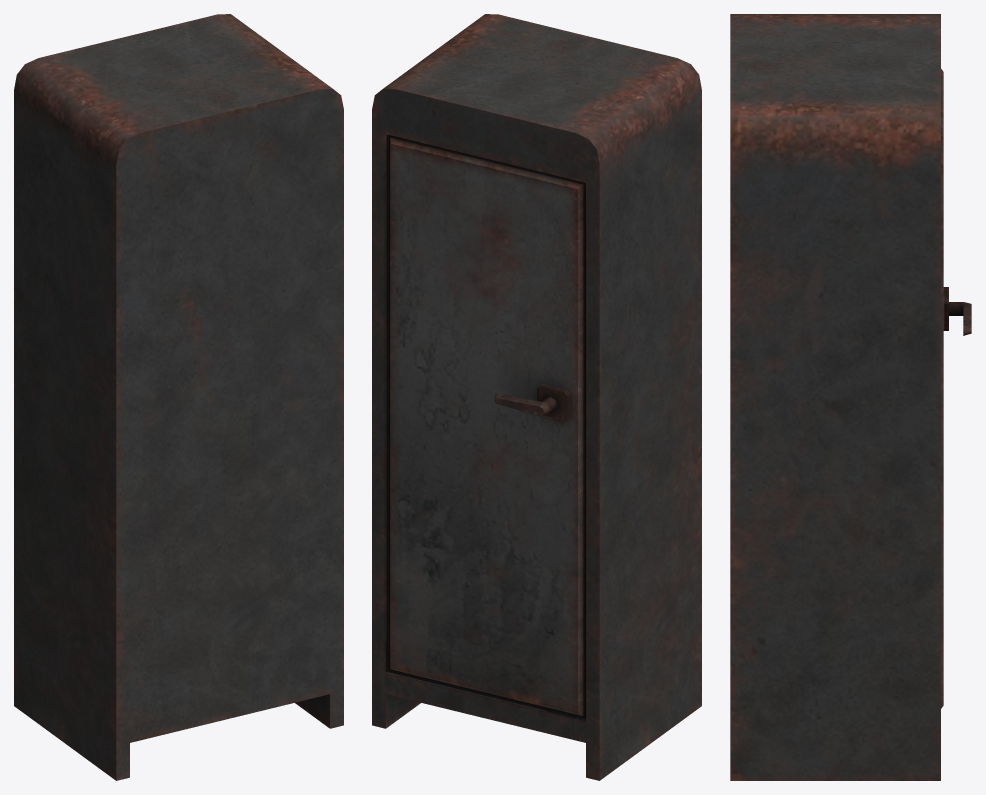
Rendered from SingleCab_01.FBX.
3 renders of one model, left to right at view 1: azimuth 30°, elevation 25°; view 2: azimuth 150°, elevation 25°; view 3: azimuth 270°, elevation 25°, orthographic. The views are drawn at different scales.
Visible parts, largest first — view 1: SingleCab_01; view 2: SingleCab_01; view 3: SingleCab_01.
Boxes of the visible parts, left/top/right/bottom form: SingleCab_01: left=14, top=14, right=343, bottom=780; SingleCab_01: left=372, top=14, right=701, bottom=780; SingleCab_01: left=730, top=14, right=971, bottom=780.
Bounding box in the file's own units: 66.03 × 178 × 58.85.
